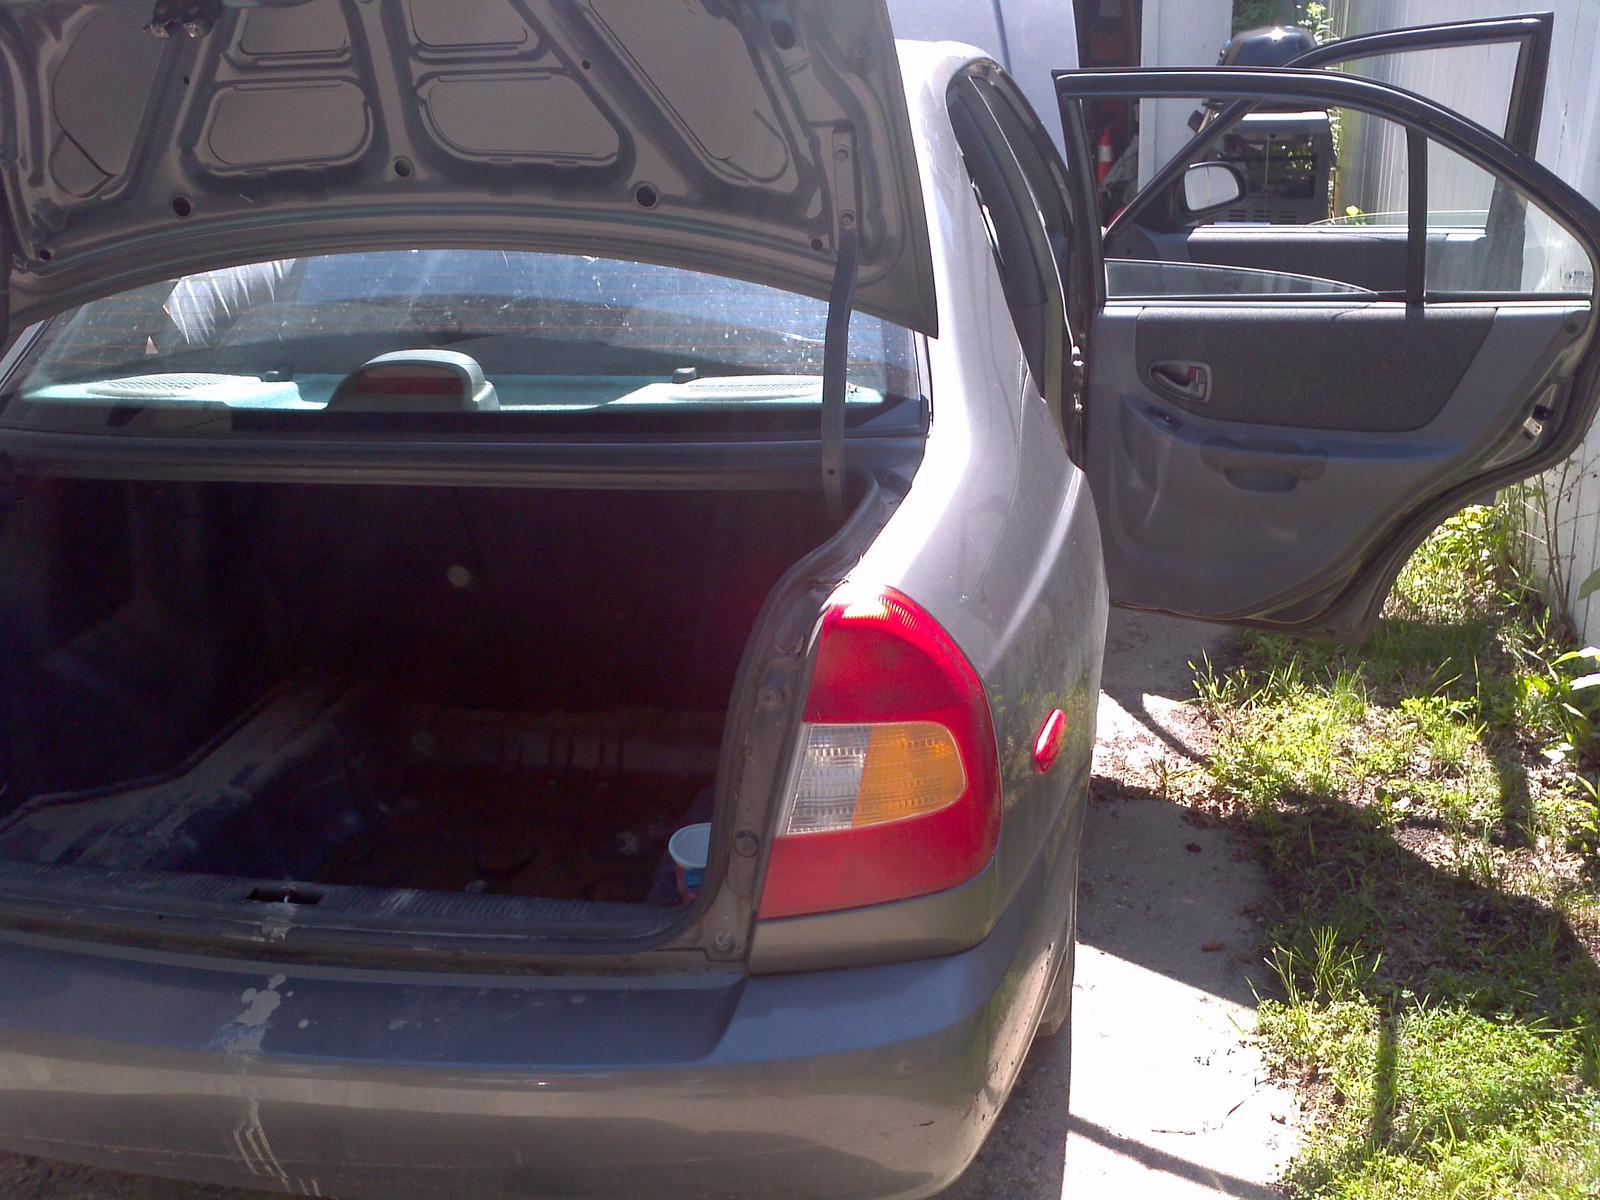rear-bumper-dent: (38, 997, 810, 1192)
